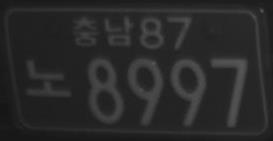7: (208, 56, 250, 129), (165, 14, 193, 51)
8: (86, 56, 125, 124), (138, 14, 166, 50)
9: (168, 56, 208, 128), (125, 55, 164, 128)
노: (24, 58, 72, 99)
충남_O: (71, 15, 136, 48)
